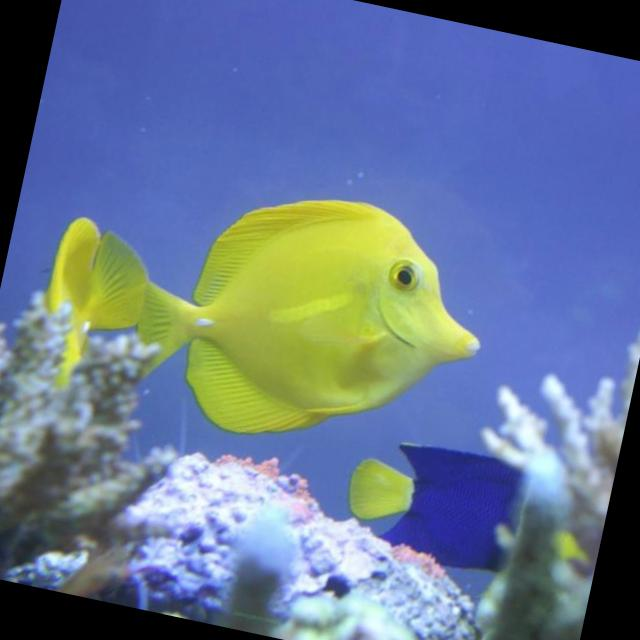TangFish: (119, 159, 512, 484)
